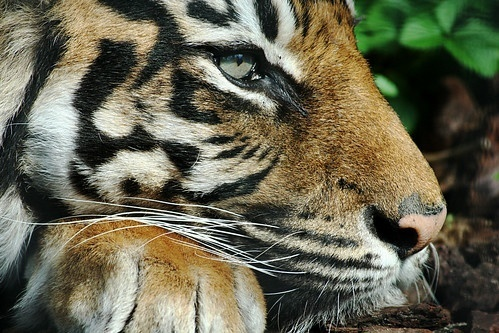tigre: (2, 1, 451, 330)
